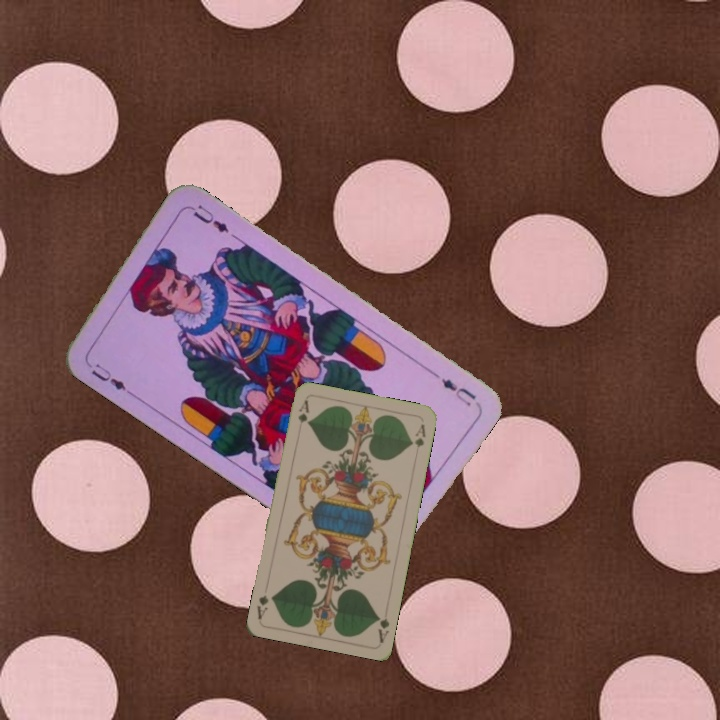EU: (82, 358, 129, 393), (437, 373, 479, 409)
GA: (373, 612, 392, 645), (294, 396, 311, 426)
